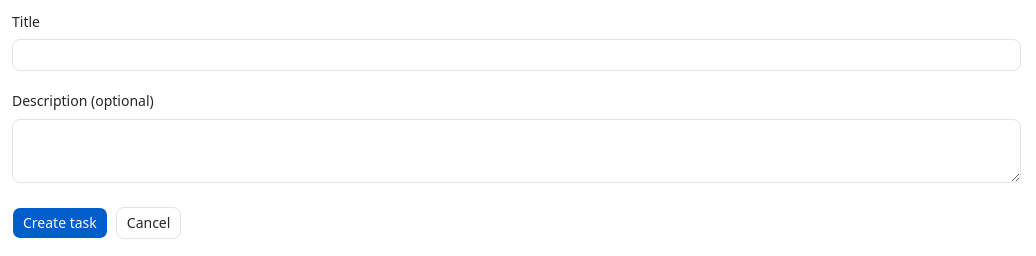
Scenario: TaskForm › disables the submit button while the save is pending
The width and height of the screenshot is (1036, 256).
In the field labelled "Title": (516,55) [12,39,1021,71], type "Dust the shelves"
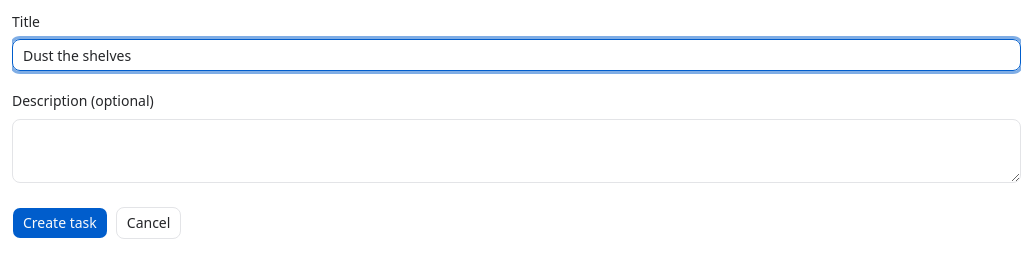
Click the button "Create task": (60,222) [12,206,108,238]
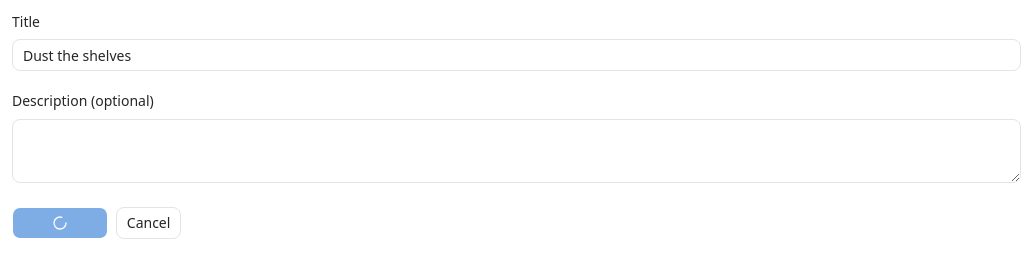
Check: the button named "Create task" is disabled
Click the button named "Create task": (60,222) [12,206,108,238]
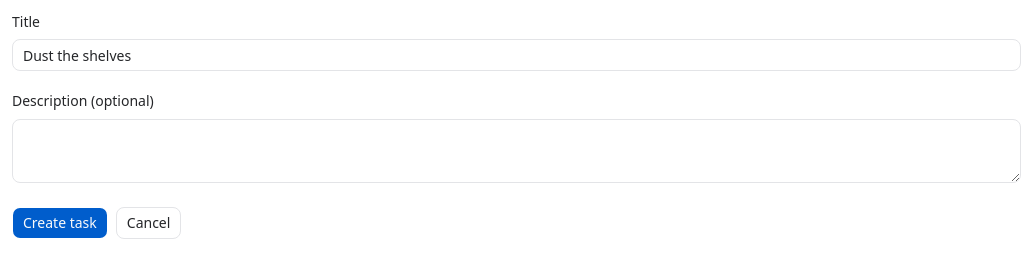
Check: the button "Create task" is enabled, box [12,206,108,238]
